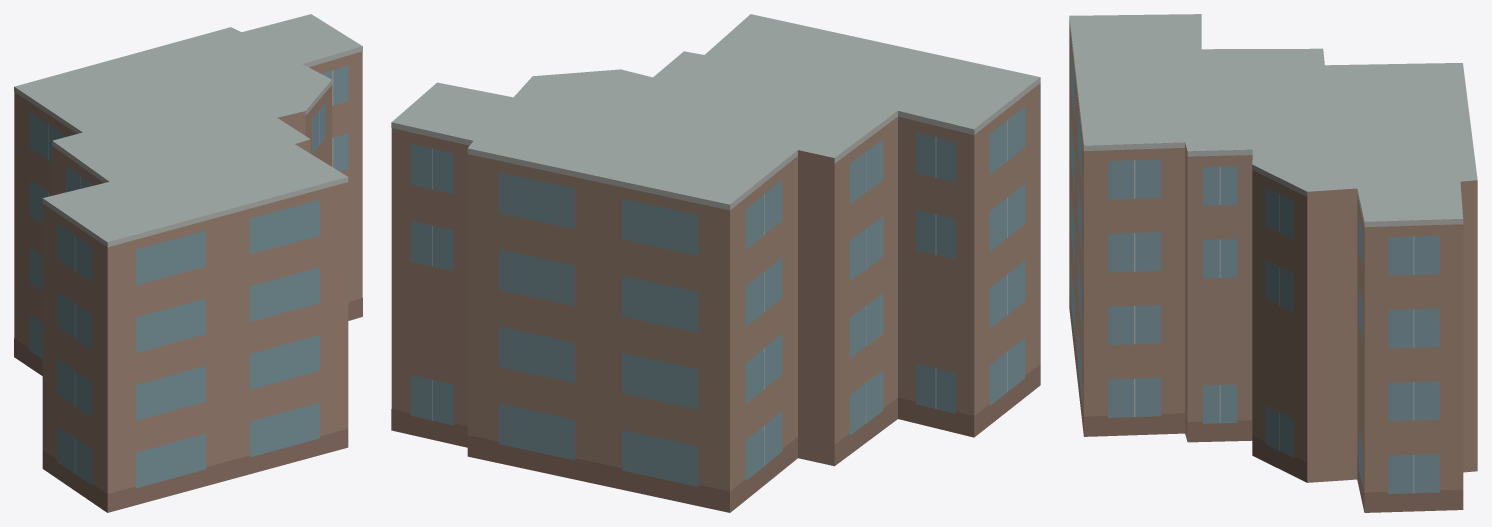
Rendered from survey-upis-33004081.glb.
3 renders of one model, left to right at view 1: azimuth 30°, elevation 25°; view 2: azimuth 150°, elevation 25°; view 3: azimuth 270°, elevation 25°, orthographic. The views are drawn at different scales.
Parts seen in each view (by area): view 1: survey-upis-33004081.tmp; view 2: survey-upis-33004081.tmp; view 3: survey-upis-33004081.tmp.
Boxes of the visible parts, x1,y1,x2,y2 form: survey-upis-33004081.tmp: (14,14,362,512); survey-upis-33004081.tmp: (391,14,1040,512); survey-upis-33004081.tmp: (1069,14,1477,512).
Size of the model in its own units: 20.22 by 13.2 by 16.8.
